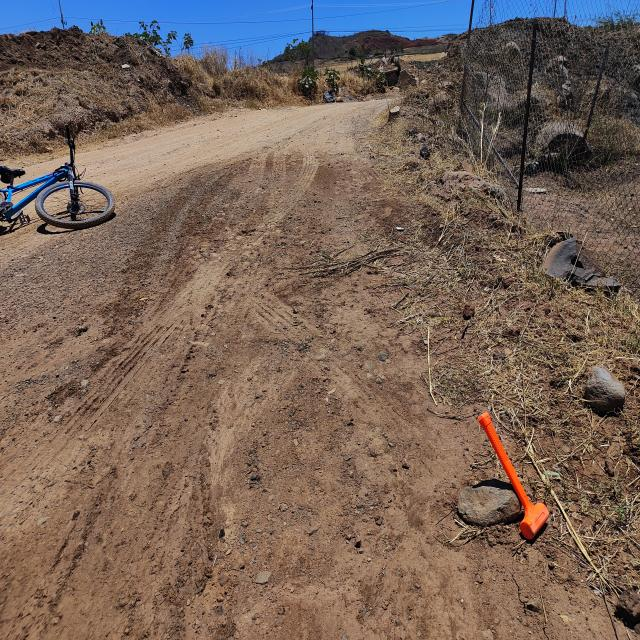Orange_hammer: (476, 410, 550, 541)
